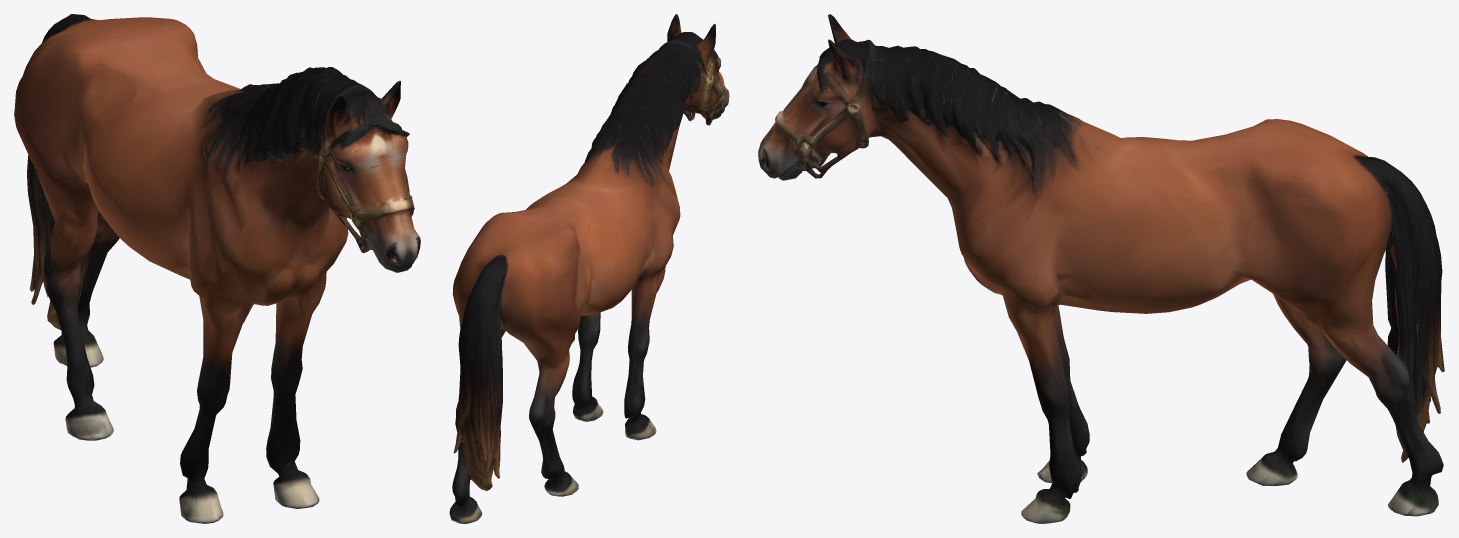
File: horse.glb
3 views of the same model, side by side, from view 1: azimuth 30°, elevation 25°; view 2: azimuth 150°, elevation 25°; view 3: azimuth 270°, elevation 25° (orthographic). The views are drawn at different scales.
Parts seen in each view (by area): view 1: Object_5; view 2: Object_5; view 3: Object_5.
Boxes of the visible parts, <box> form: Object_5: <box>14,14,420,523</box>; Object_5: <box>449,14,729,523</box>; Object_5: <box>758,14,1444,523</box>.
Bounding box in the file's own units: 0.4986 × 1.45 × 1.91.
Materials: 1 (1 with a texture image).
